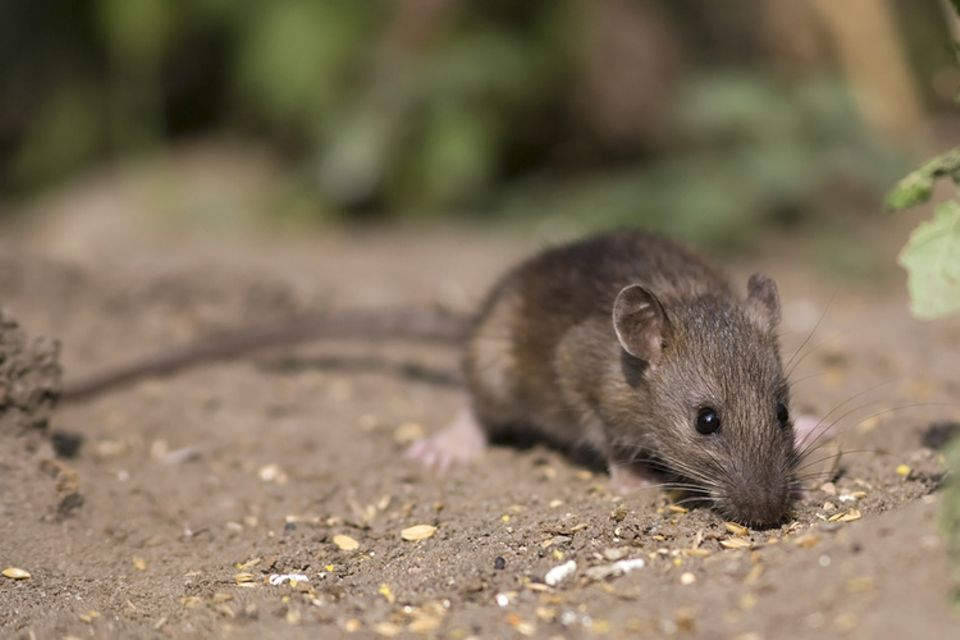rat: (521, 223, 825, 547)
